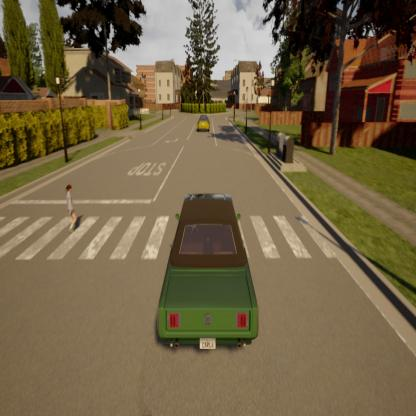Cars: (149, 183, 262, 369), (194, 112, 214, 136)
Pedestrian: (58, 178, 81, 237)
